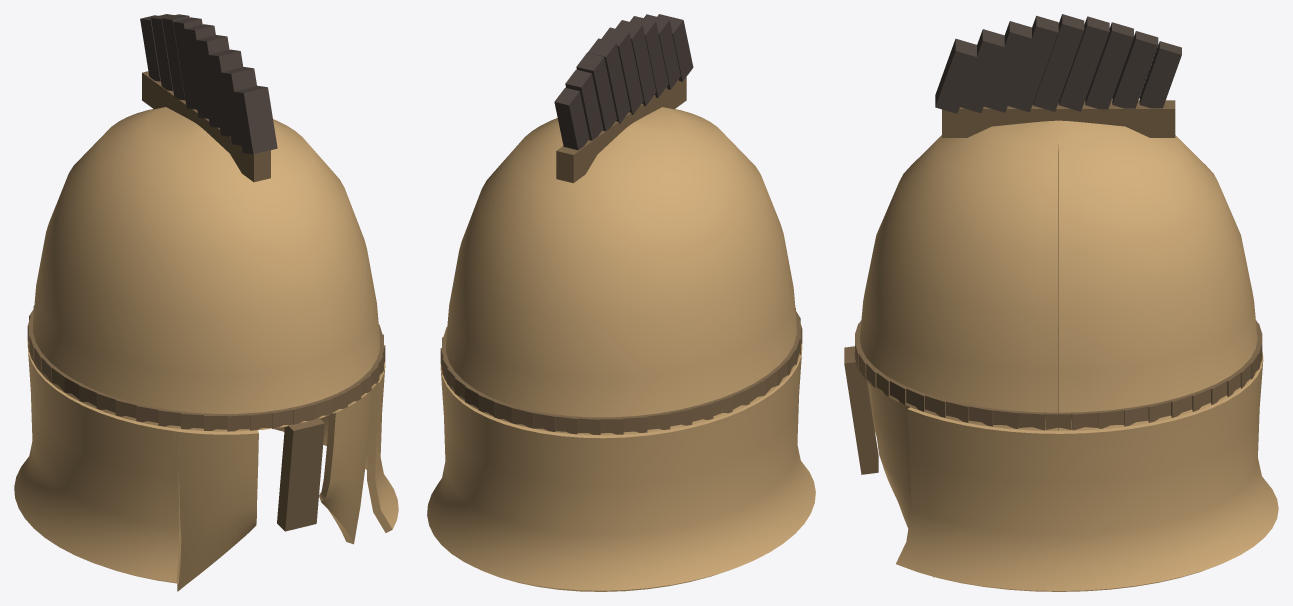
The model's file is helmet.glb.
3 views of the same model, side by side, from view 1: azimuth 30°, elevation 25°; view 2: azimuth 150°, elevation 25°; view 3: azimuth 270°, elevation 25° (orthographic). The views are drawn at different scales.
Parts seen in each view (by area): view 1: helmet_shell, helmet_trim, helmet_crest; view 2: helmet_shell, helmet_crest, helmet_trim; view 3: helmet_shell, helmet_crest, helmet_trim.
Boxes of the visible parts, box(x1,y1,x2,y2) form: helmet_shell: box(14, 107, 398, 591); helmet_trim: box(27, 71, 385, 531); helmet_crest: box(140, 14, 277, 154); helmet_shell: box(427, 107, 815, 591); helmet_crest: box(554, 14, 693, 150); helmet_trim: box(440, 77, 802, 435); helmet_shell: box(854, 120, 1278, 591); helmet_crest: box(935, 14, 1181, 113); helmet_trim: box(844, 100, 1262, 474).
Bounding box in the file's own units: 0.2657 × 0.3899 × 0.2979.
